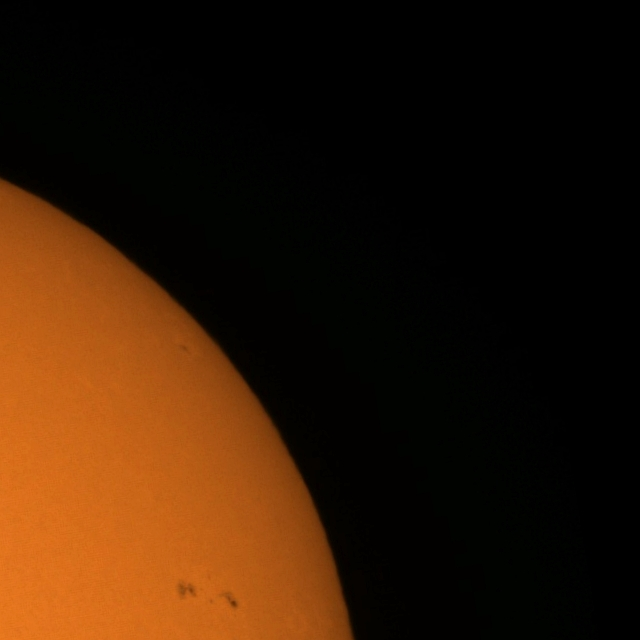sunspot: (176, 576, 224, 606), (176, 580, 200, 600), (221, 591, 239, 611), (178, 342, 191, 356)
